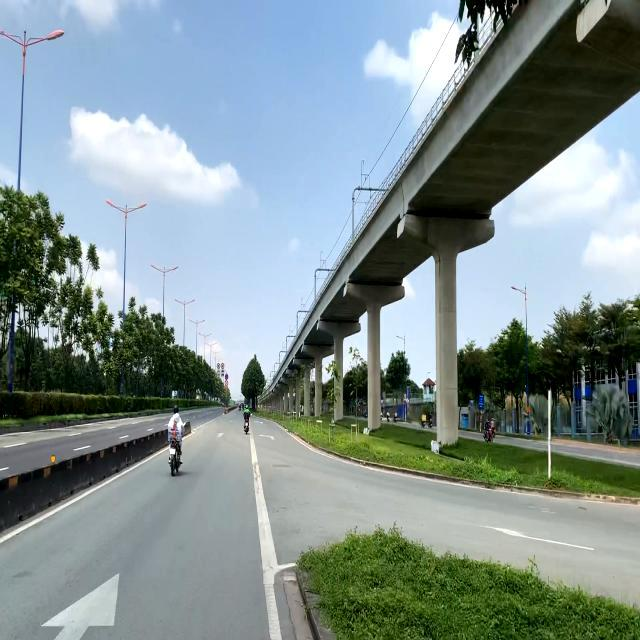Cam dung xe va do xe: (224, 374, 228, 380)
Toc do toi da cho phep: (221, 362, 225, 369), (217, 362, 220, 370)
